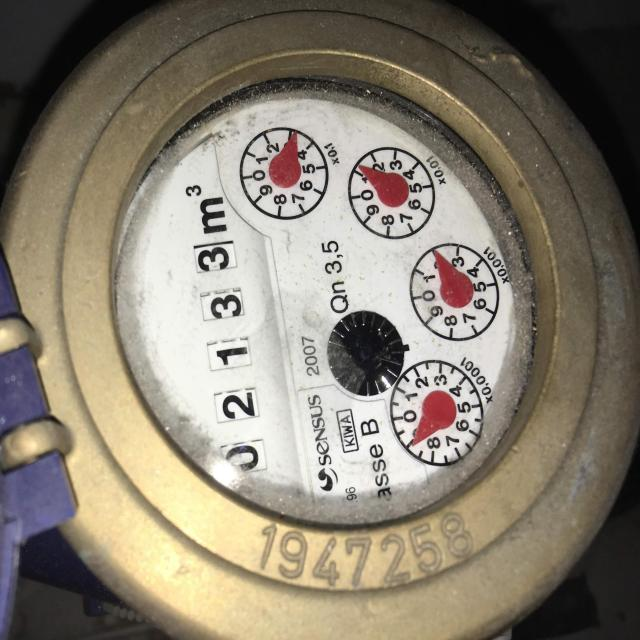gaz_meter: (107, 67, 548, 525)
indication: (174, 230, 280, 480)
